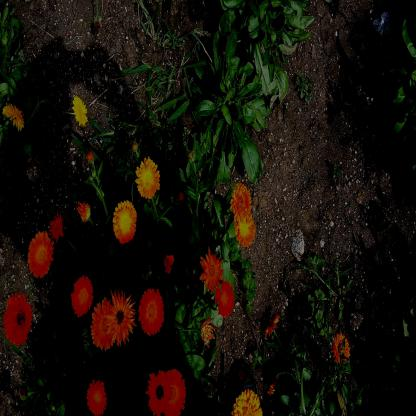marigold: (105, 289, 137, 346), (3, 292, 32, 346), (90, 297, 118, 350), (26, 230, 54, 278), (138, 288, 164, 336), (199, 243, 223, 293), (135, 155, 161, 201), (161, 368, 186, 415), (112, 199, 137, 245), (145, 370, 170, 416), (70, 274, 94, 318), (213, 277, 235, 318), (234, 210, 256, 248), (86, 378, 108, 416), (229, 182, 251, 218), (2, 101, 25, 132), (71, 94, 89, 128), (332, 331, 350, 363), (264, 312, 278, 336), (266, 369, 278, 395)
